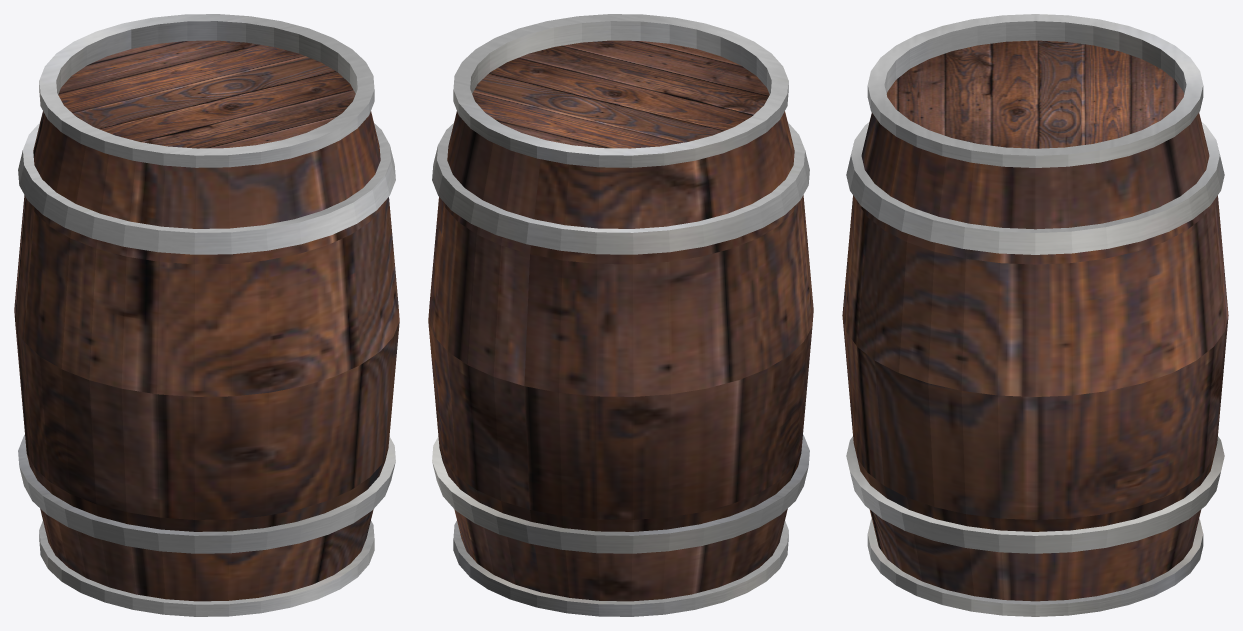
Rendered from barrel.glb.
The picture shows the model from 3 angles, left to right: view 1: azimuth 30°, elevation 25°; view 2: azimuth 150°, elevation 25°; view 3: azimuth 270°, elevation 25°; orthographic projection.
Parts seen in each view (by area): view 1: Cylinder; view 2: Cylinder; view 3: Cylinder.
Boxes of the visible parts, left/top/right/bottom form: Cylinder: left=14, top=14, right=399, bottom=616; Cylinder: left=428, top=14, right=813, bottom=616; Cylinder: left=842, top=14, right=1228, bottom=616.
Size of the model in its own units: 2 by 2.64 by 2.
1 material, 1 textured.
